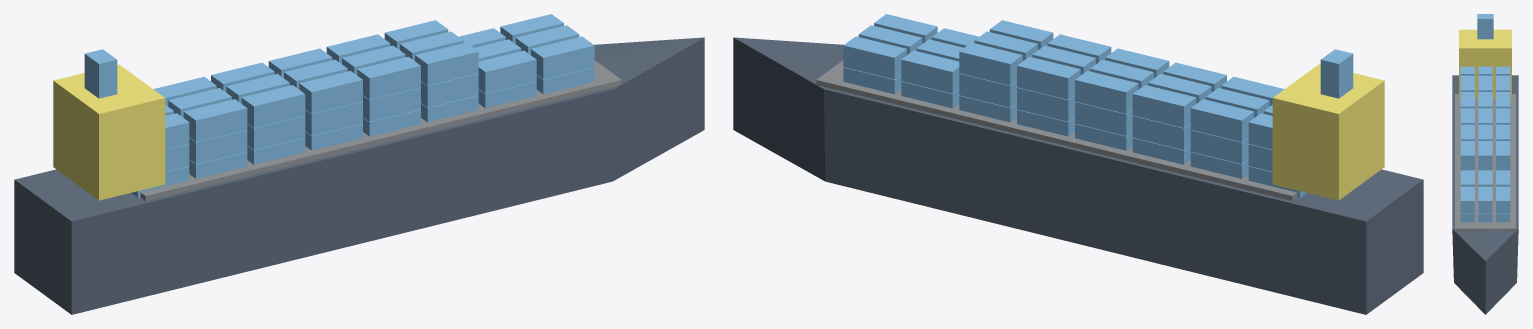
The model's file is container-cosco.glb.
3 views of the same model, side by side, from view 1: azimuth 30°, elevation 25°; view 2: azimuth 150°, elevation 25°; view 3: azimuth 270°, elevation 25° (orthographic). The views are drawn at different scales.
Visible parts, largest first — view 1: hull, house, deck, ctr20, ctr11, ctr61, ctr47, ctr38, ctr29, ctr55, funnel, ctr10 (+28 smaller); view 2: hull, house, deck, ctr26, ctr17, ctr65, ctr53, ctr44, ctr35, ctr59, funnel, ctr16 (+28 smaller); view 3: hull, deck, house, funnel, ctr50, ctr63, ctr47, ctr53, ctr61, ctr65, ctr14, ctr23 (+19 smaller).
Boxes of the visible parts, left/top/right/bottom form: hull: left=14, top=37, right=704, bottom=314; house: left=53, top=64, right=165, bottom=200; deck: left=140, top=60, right=621, bottom=200; ctr20: left=241, top=85, right=305, bottom=127; ctr11: left=183, top=99, right=247, bottom=141; ctr61: left=531, top=36, right=594, bottom=79; ctr47: left=415, top=42, right=478, bottom=85; ctr38: left=357, top=56, right=420, bottom=99; ctr29: left=299, top=71, right=362, bottom=113; ctr55: left=478, top=50, right=536, bottom=93; funnel: left=84, top=49, right=117, bottom=98; ctr10: left=189, top=130, right=247, bottom=164; hull: left=733, top=37, right=1423, bottom=314; house: left=1272, top=64, right=1384, bottom=200; deck: left=816, top=60, right=1297, bottom=200; ctr26: left=1132, top=85, right=1196, bottom=127; ctr17: left=1190, top=99, right=1254, bottom=141; ctr65: left=843, top=36, right=906, bottom=79; ctr53: left=959, top=42, right=1022, bottom=85; ctr44: left=1017, top=56, right=1080, bottom=99; ctr35: left=1075, top=71, right=1138, bottom=113; ctr59: left=901, top=50, right=959, bottom=93; funnel: left=1320, top=49, right=1353, bottom=98; ctr16: left=1190, top=130, right=1248, bottom=164; hull: left=1452, top=75, right=1518, bottom=314; deck: left=1455, top=94, right=1515, bottom=231; house: left=1459, top=29, right=1511, bottom=98; funnel: left=1477, top=14, right=1493, bottom=39; ctr50: left=1478, top=141, right=1492, bottom=168; ctr63: left=1478, top=186, right=1492, bottom=213; ctr47: left=1460, top=141, right=1474, bottom=168; ctr53: left=1496, top=141, right=1510, bottom=168; ctr61: left=1460, top=186, right=1474, bottom=213; ctr65: left=1496, top=186, right=1510, bottom=213; ctr14: left=1478, top=75, right=1492, bottom=91; ctr23: left=1478, top=92, right=1492, bottom=108.
Bounding box in the file's own units: 80 × 25.8 × 12.
